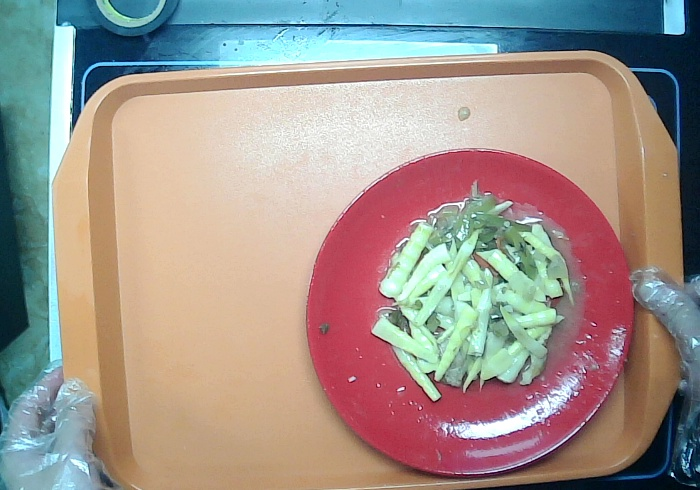HZYJPL-Hong_Se_Yuan_Pan: (290, 132, 642, 490)
